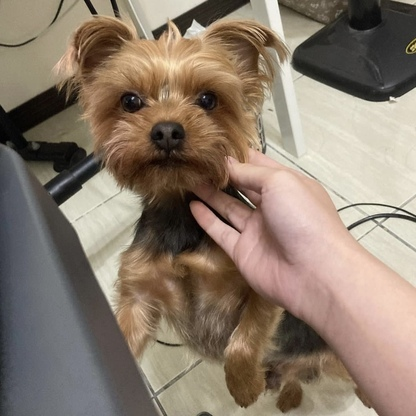yorkshire: (59, 14, 289, 200)
